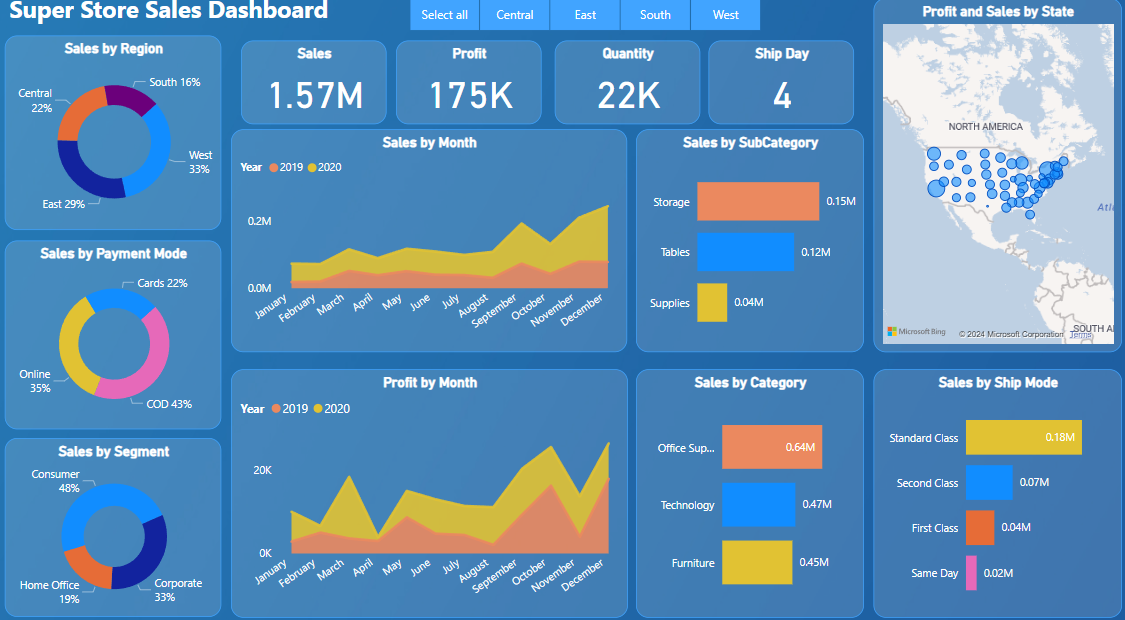

The page's visual inventory and layout, read from the dashboard file:
{"tool":"powerbi","page":{"name":"Page 1","canvas":[1280,720],"ordinal":0},"visuals":[{"type":"clusteredBarChart","title":"Sales by Category","fields":{"Y":["Sum(SuperStore_Sales_Dataset.Sales)"],"Category":["SuperStore_Sales_Dataset.Category"]},"box":[721.8,429.5,256.6,279.9],"z":0},{"type":"clusteredBarChart","title":"Sales by SubCategory","fields":{"Y":["Sum(SuperStore_Sales_Dataset.Sales)"],"Category":["SuperStore_Sales_Dataset.Sub-Category"]},"box":[721.5,159.3,257,250.9],"z":1000},{"type":"clusteredBarChart","title":"Sales by Ship Mode","fields":{"Y":["Sum(SuperStore_Sales_Dataset.Sales)"],"Category":["SuperStore_Sales_Dataset.Ship Mode"]},"box":[989.4,429.5,279.9,279.9],"z":2000},{"type":"map","title":"Profit and Sales by State","fields":{"Category":["SuperStore_Sales_Dataset.State"],"Size":["Sum(SuperStore_Sales_Dataset.Profit)"]},"box":[989.4,11,279.9,399.3],"z":3000},{"type":"stackedAreaChart","title":"Sales by Month","fields":{"Y":["Sum(SuperStore_Sales_Dataset.Sales)"],"Category":["SuperStore_Sales_Dataset.Order Date.Variation.Date Hierarchy.Month"],"Series":["SuperStore_Sales_Dataset.Order Date.Variation.Date Hierarchy.Year"]},"box":[265.4,159.3,446.4,250.9],"z":4000},{"type":"stackedAreaChart","title":"Profit by Month","fields":{"Category":["SuperStore_Sales_Dataset.Order Date.Variation.Date Hierarchy.Month"],"Series":["SuperStore_Sales_Dataset.Order Date.Variation.Date Hierarchy.Year"],"Y":["Sum(SuperStore_Sales_Dataset.Profit)"]},"box":[264.8,429.5,447.3,279.9],"z":5000},{"type":"donutChart","title":"Sales by Payment Mode","fields":{"Y":["Sum(SuperStore_Sales_Dataset.Sales)"],"Category":["SuperStore_Sales_Dataset.Payment Mode"]},"box":[9.6,284,244.3,212.7],"z":6000},{"type":"donutChart","title":"Sales by Segment","fields":{"Y":["Sum(SuperStore_Sales_Dataset.Sales)"],"Category":["SuperStore_Sales_Dataset.Segment","SuperStore_Sales_Dataset.Payment Mode"]},"box":[9.6,506.3,244.3,201.7],"z":7000},{"type":"textbox","box":[9.7,0,411.4,59.1],"z":8000},{"type":"slicer","fields":{"Values":["SuperStore_Sales_Dataset.Region"]},"box":[440.4,6,444,48.3],"z":9000},{"type":"card","title":"Sales","fields":{"Values":["Sum(SuperStore_Sales_Dataset.Sales)"]},"box":[276.3,59.1,164.1,94.1],"z":10000},{"type":"card","title":"Profit","fields":{"Values":["Sum(SuperStore_Sales_Dataset.Profit)"]},"box":[450,59.1,164.1,94.1],"z":11000},{"type":"card","title":"Quantity","fields":{"Values":["Sum(SuperStore_Sales_Dataset.Quantity)"]},"box":[629.8,59.1,164.1,94.1],"z":12000},{"type":"card","title":"Ship Day","fields":{"Values":["Avg(SuperStore_Sales_Dataset.Avg.Delivery)"]},"box":[802.3,59.1,164.1,94.1],"z":13000},{"type":"donutChart","title":"Sales by Region","fields":{"Y":["Sum(SuperStore_Sales_Dataset.Sales)"],"Category":["SuperStore_Sales_Dataset.Region"]},"box":[9.6,53.5,244.3,219.6],"z":14000}]}

Visuals, with their boxes in screenshot pixels (x1, y1, x2, y2), scaled from the page's 1280x720 canvas onto the 1125x620 screenshot:
"Sales by Category" clusteredBarChart: <bbox>634, 370, 860, 611</bbox>
"Sales by SubCategory" clusteredBarChart: <bbox>634, 137, 860, 353</bbox>
"Sales by Ship Mode" clusteredBarChart: <bbox>870, 370, 1116, 611</bbox>
"Profit and Sales by State" map: <bbox>870, 9, 1116, 353</bbox>
"Sales by Month" stackedAreaChart: <bbox>233, 137, 626, 353</bbox>
"Profit by Month" stackedAreaChart: <bbox>233, 370, 626, 611</bbox>
"Sales by Payment Mode" donutChart: <bbox>8, 245, 223, 428</bbox>
"Sales by Segment" donutChart: <bbox>8, 436, 223, 610</bbox>
textbox: <bbox>9, 0, 370, 51</bbox>
slicer - SuperStore_Sales_Dataset.Region: <bbox>387, 5, 777, 47</bbox>
"Sales" card: <bbox>243, 51, 387, 132</bbox>
"Profit" card: <bbox>396, 51, 540, 132</bbox>
"Quantity" card: <bbox>554, 51, 698, 132</bbox>
"Ship Day" card: <bbox>705, 51, 849, 132</bbox>
"Sales by Region" donutChart: <bbox>8, 46, 223, 235</bbox>
